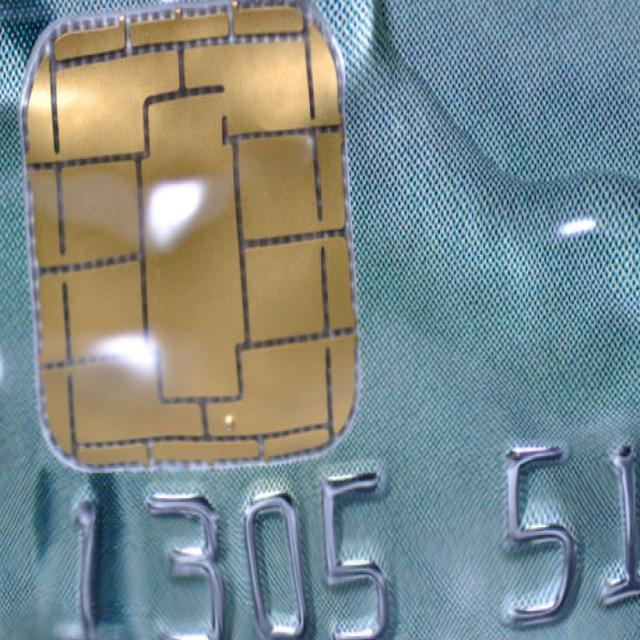electronic: (1, 0, 639, 639)
